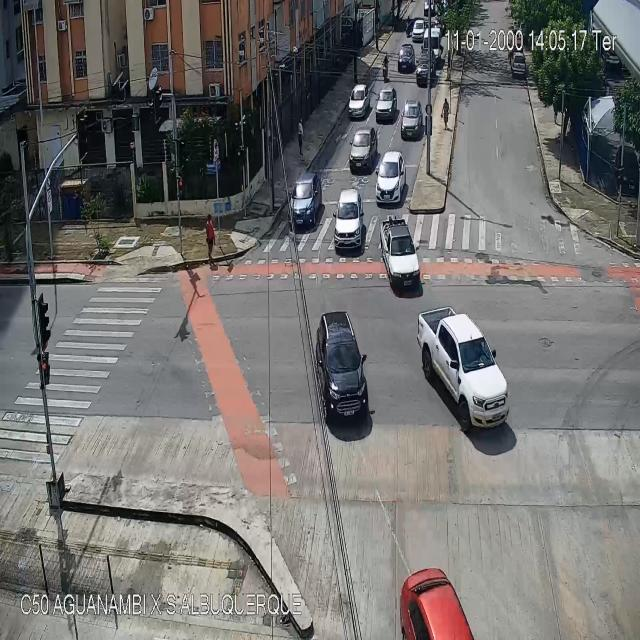Car: (417, 309, 512, 427), (314, 311, 370, 424), (398, 568, 477, 640), (380, 218, 418, 292), (332, 190, 364, 251), (287, 175, 322, 226), (376, 150, 405, 202), (350, 130, 378, 171), (416, 52, 437, 86), (422, 22, 442, 54), (402, 101, 420, 136), (376, 88, 395, 121), (350, 85, 368, 114), (396, 45, 414, 74), (411, 18, 424, 42), (511, 53, 523, 76)
Motorcycle: (382, 53, 390, 79), (406, 11, 413, 39)
